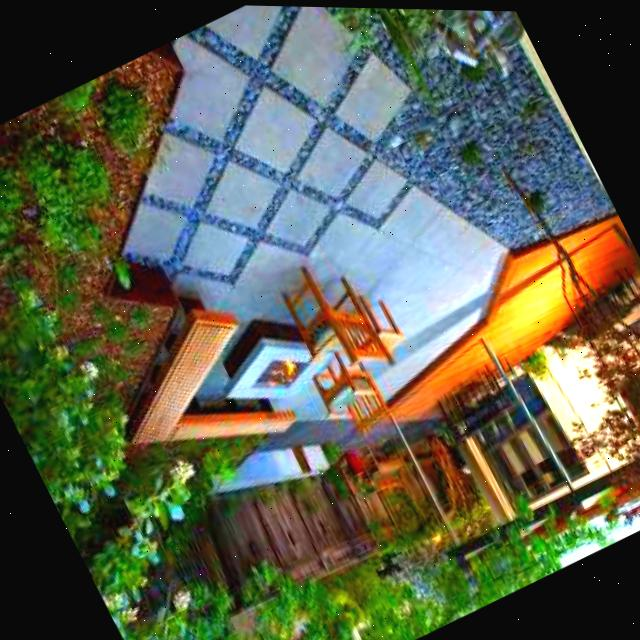Fire: (254, 347, 308, 399)
